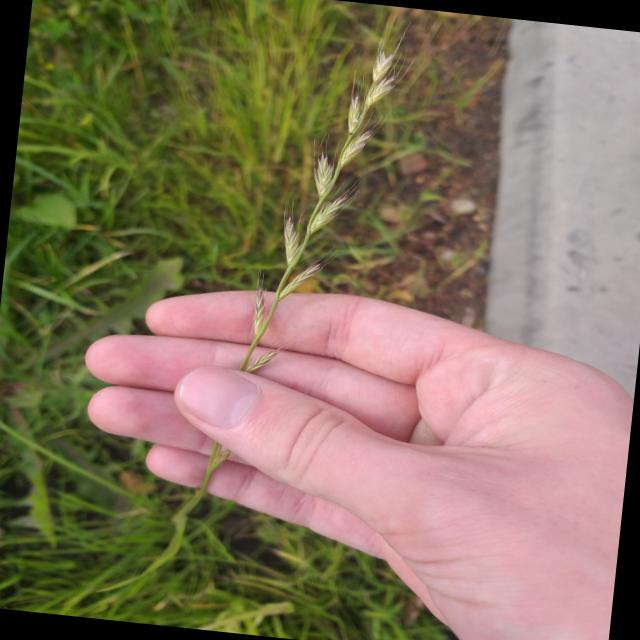Lolium: (232, 5, 416, 388)
